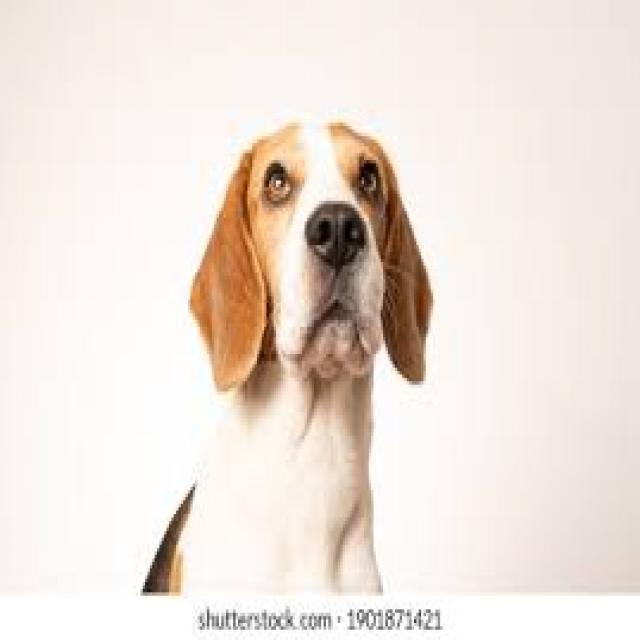Dog: (121, 105, 441, 596)
